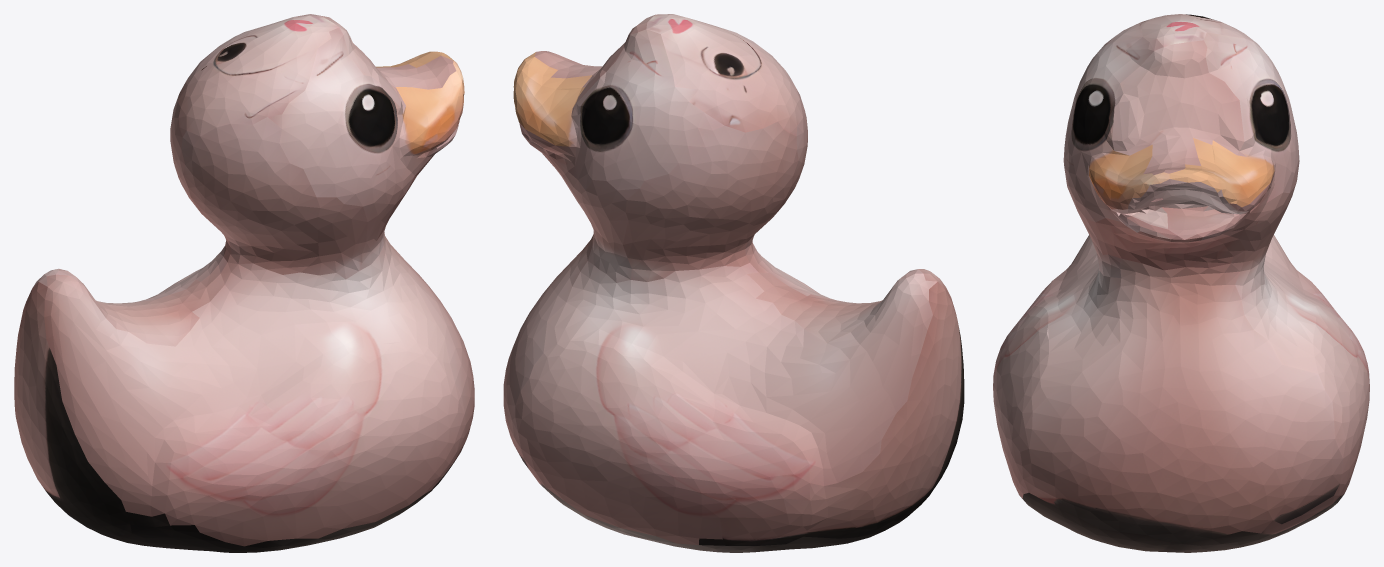
File: rubber_duck.glb
3 renders of one model, left to right at view 1: azimuth 30°, elevation 25°; view 2: azimuth 150°, elevation 25°; view 3: azimuth 270°, elevation 25°, orthographic. The views are drawn at different scales.
Visible parts, largest first — view 1: base_duck; view 2: base_duck; view 3: base_duck.
Part boxes in pixels (bbox=[...]): base_duck: bbox=[14, 14, 474, 552]; base_duck: bbox=[503, 14, 964, 552]; base_duck: bbox=[993, 14, 1369, 552].
Size of the model in its own units: 1.76 by 1.8 by 1.29.
1 material, 1 textured.
